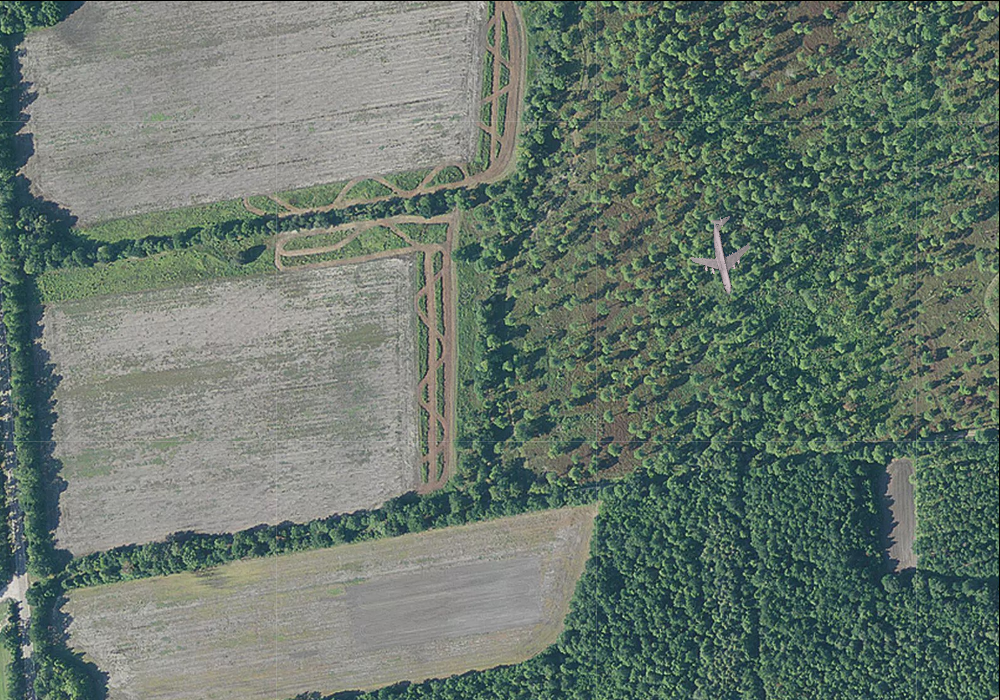plane: (680, 209, 767, 301)
